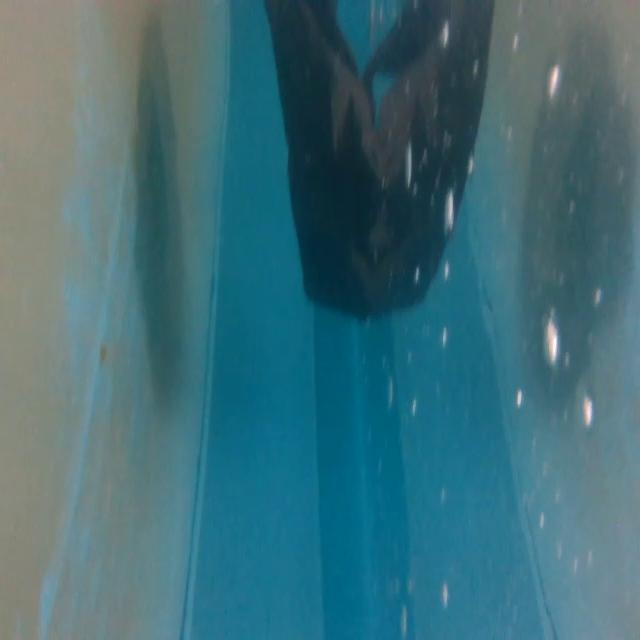plastic bags: (261, 0, 501, 328)
